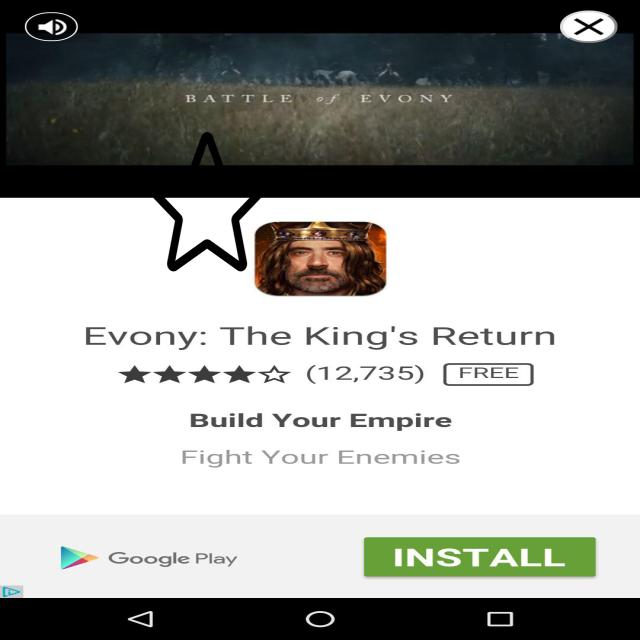forced continuity: (146, 129, 268, 274)
